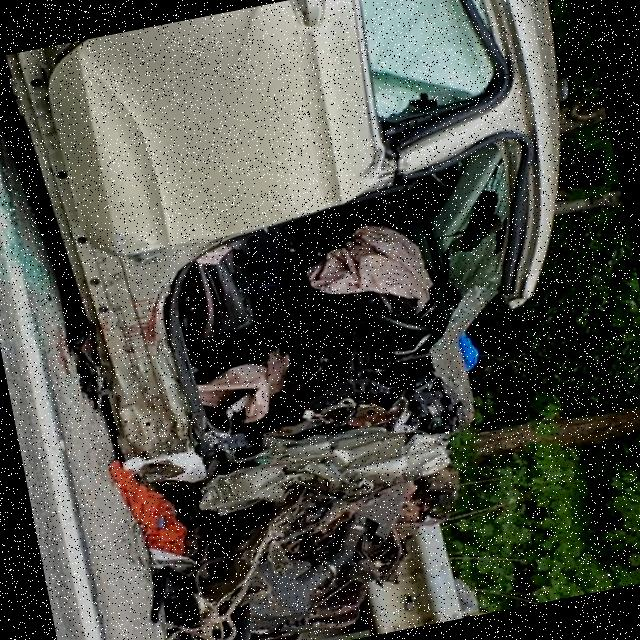Severe Damage: (73, 154, 540, 640)
